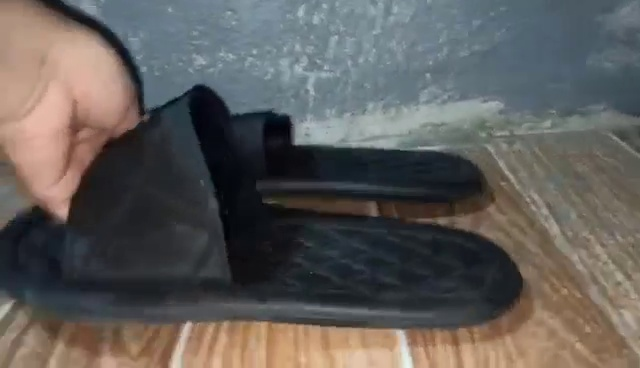slipper: (5, 90, 521, 321), (203, 100, 493, 208)
